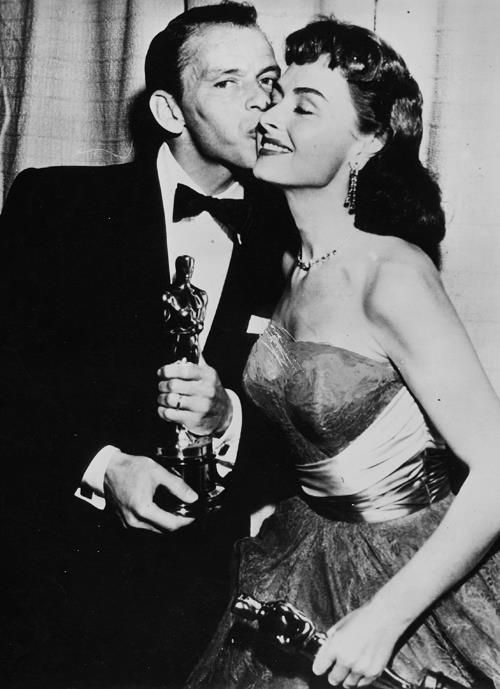hand: (103, 461, 193, 528)
